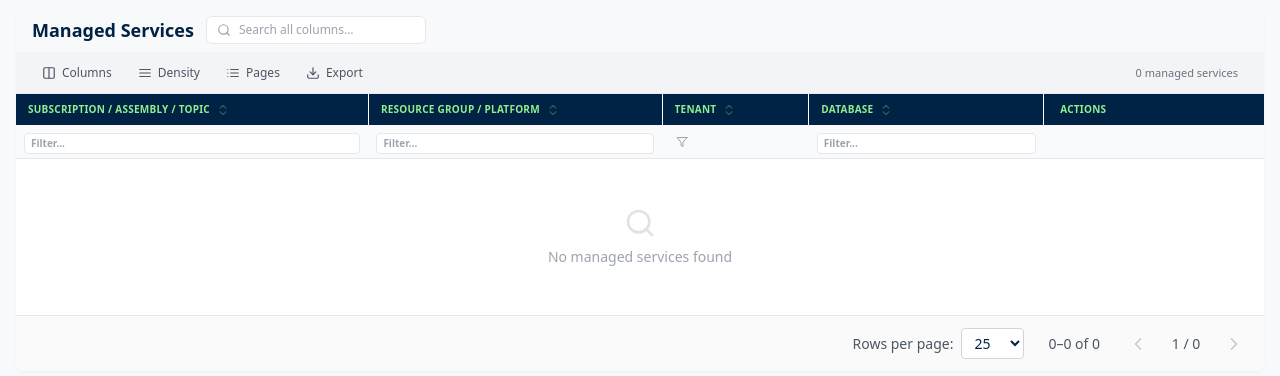
Test: ManagedServicesView › Density menu › clicking Density button shows the density dropdown
Expected: the text "0 managed services" is shown, [1126,61,1248,85]
Click the button "Density": click(169, 73) [128,59,210,87]
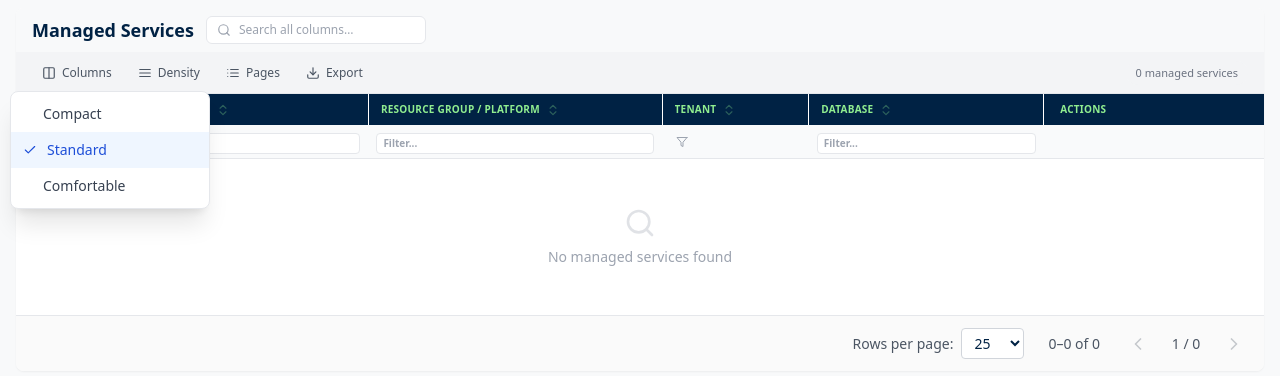
Expected: the text "Compact" is shown, [43,104,102,124]
Expected: the text "Standard" is shown, [47,140,107,160]
Expected: the text "Comfortable" is shown, [43,176,126,196]
